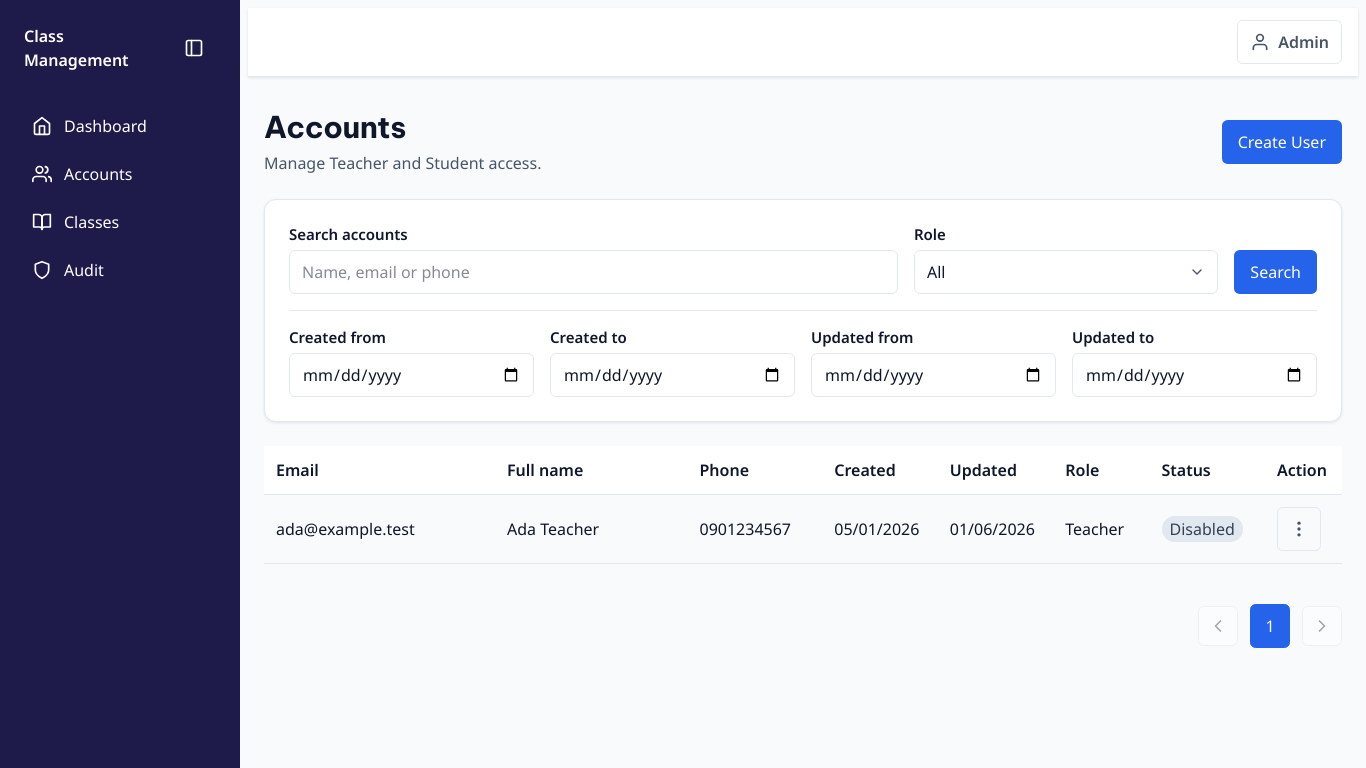
Test: Admin accounts › moves focus through the action menu and returns it on Escape
Expected: the text "ada@example.test" is shown, [276, 518, 415, 540]
Step 1. Click the button named "Actions for ada@example.test" → (1299, 529), box [1277, 507, 1321, 551]
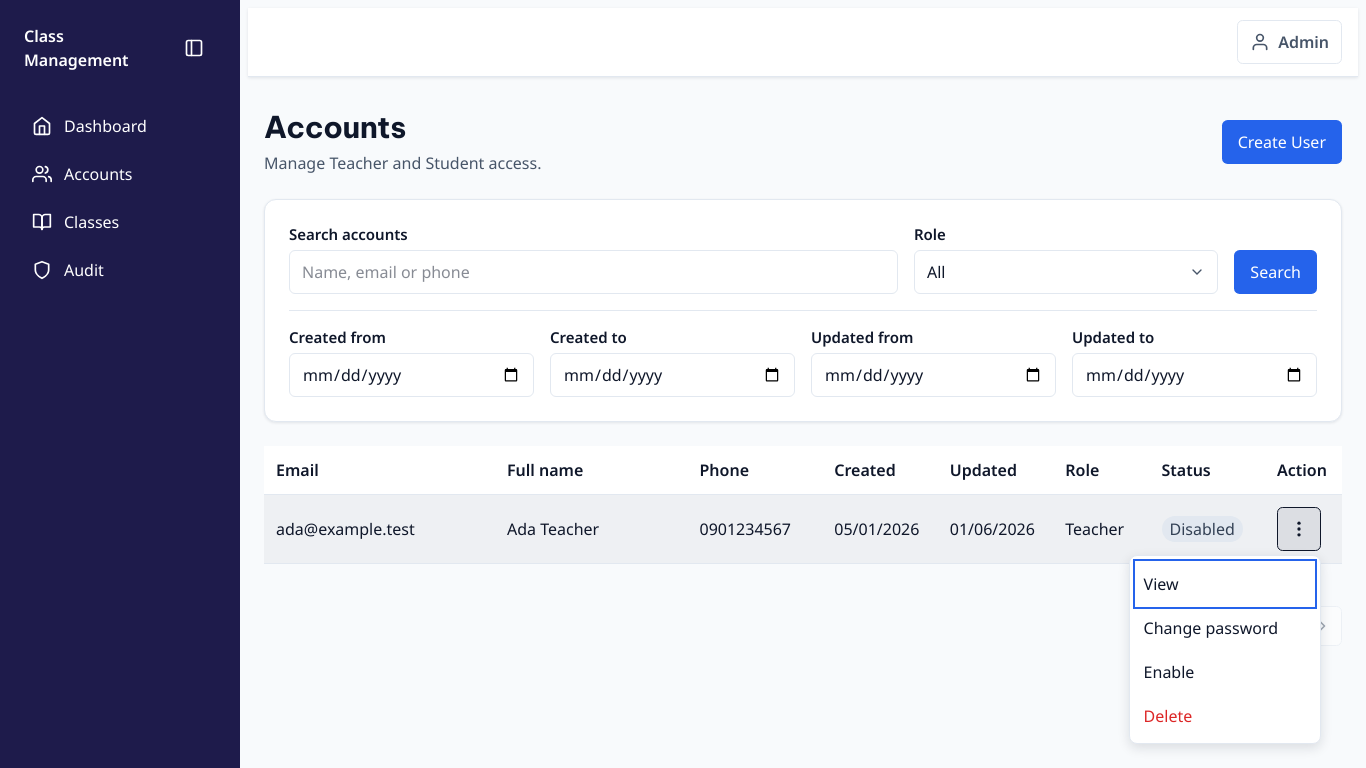
Step 2. Press Arrowdown
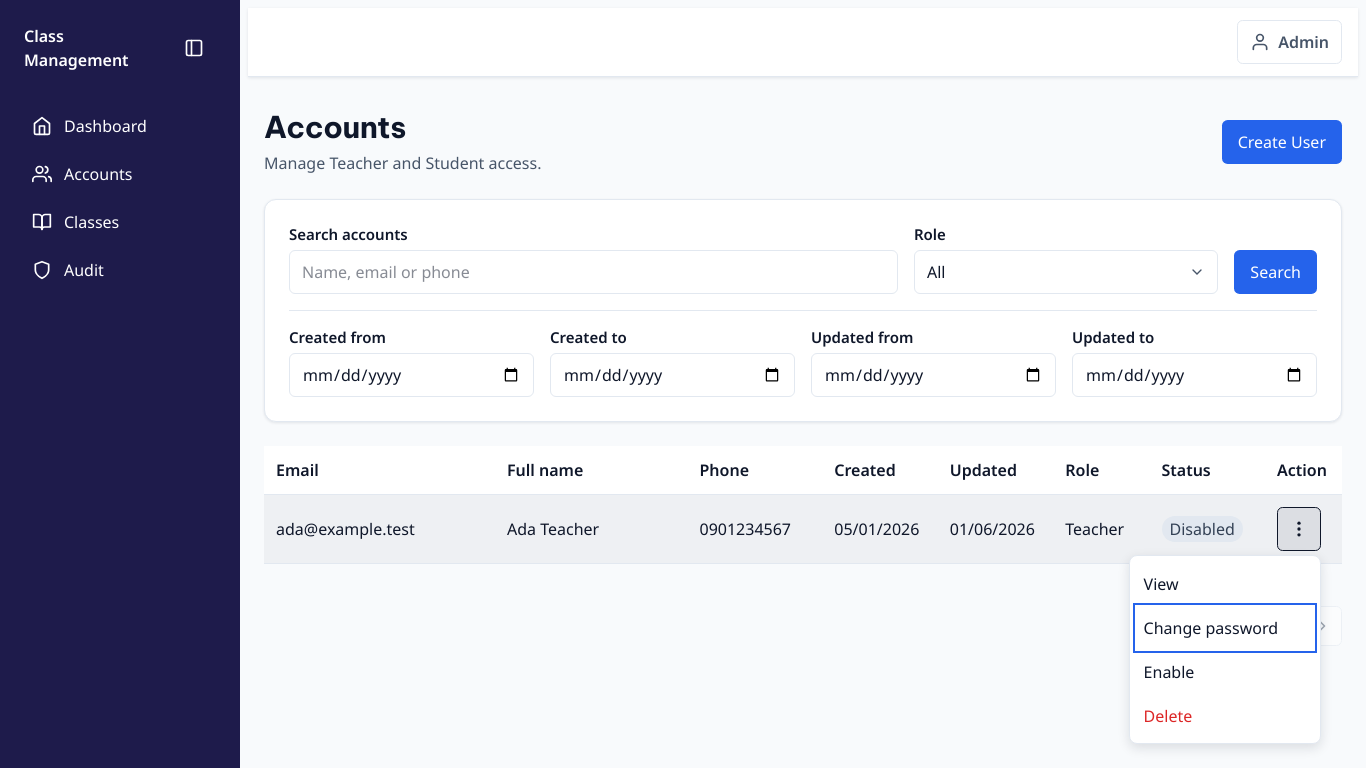
Step 3. Press Escape
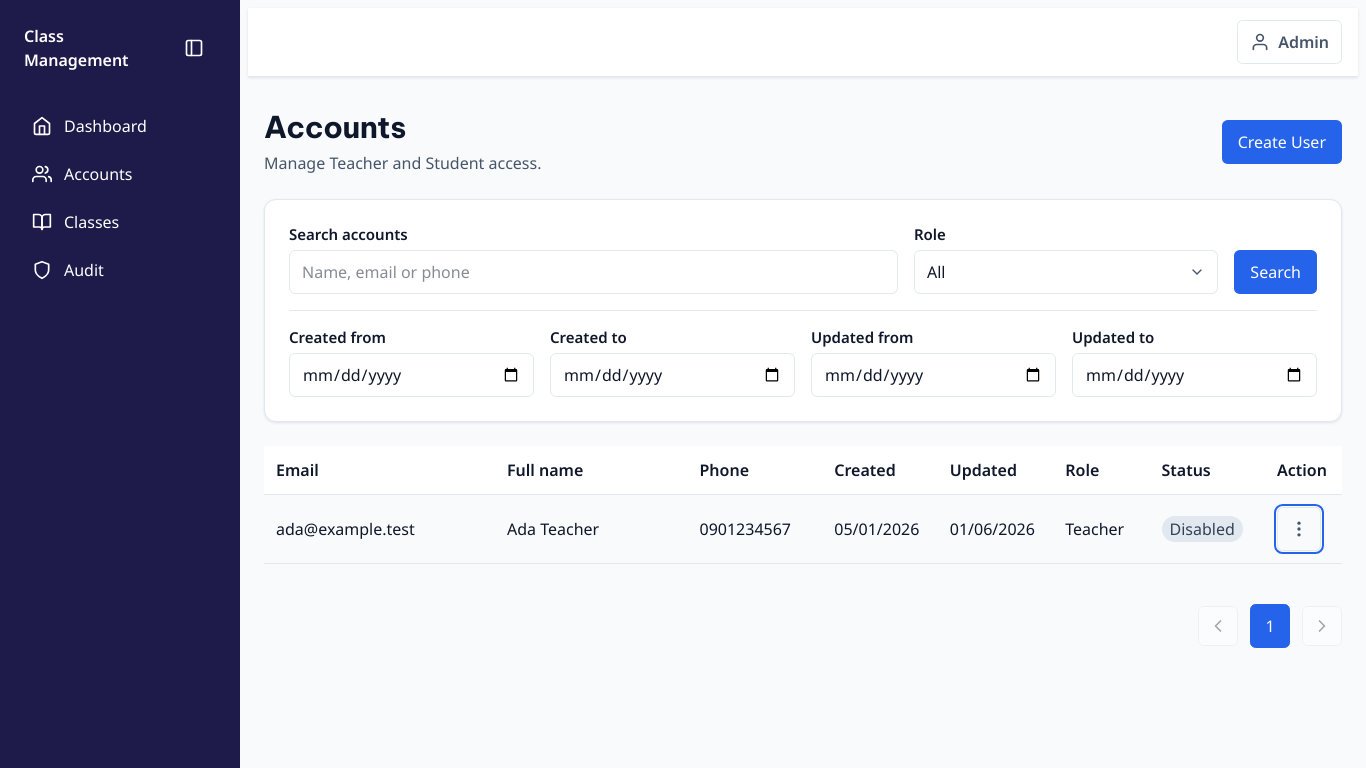
Expected: the menu is gone
